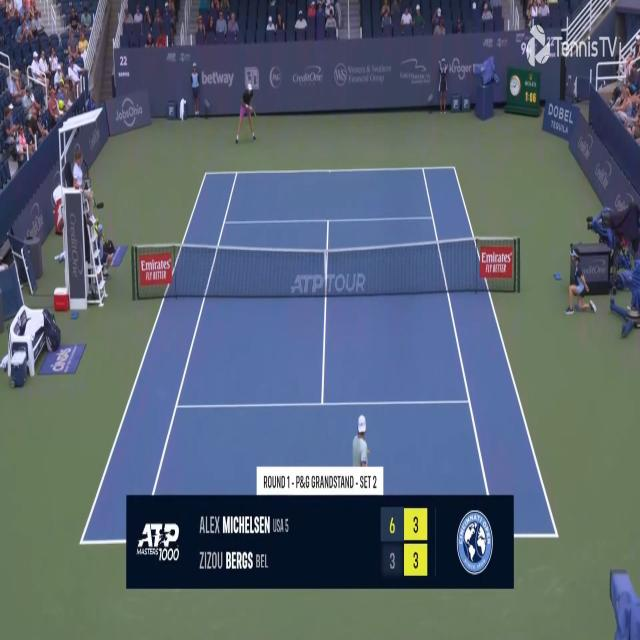tennis-player: (349, 415, 376, 492), (235, 84, 259, 144)
